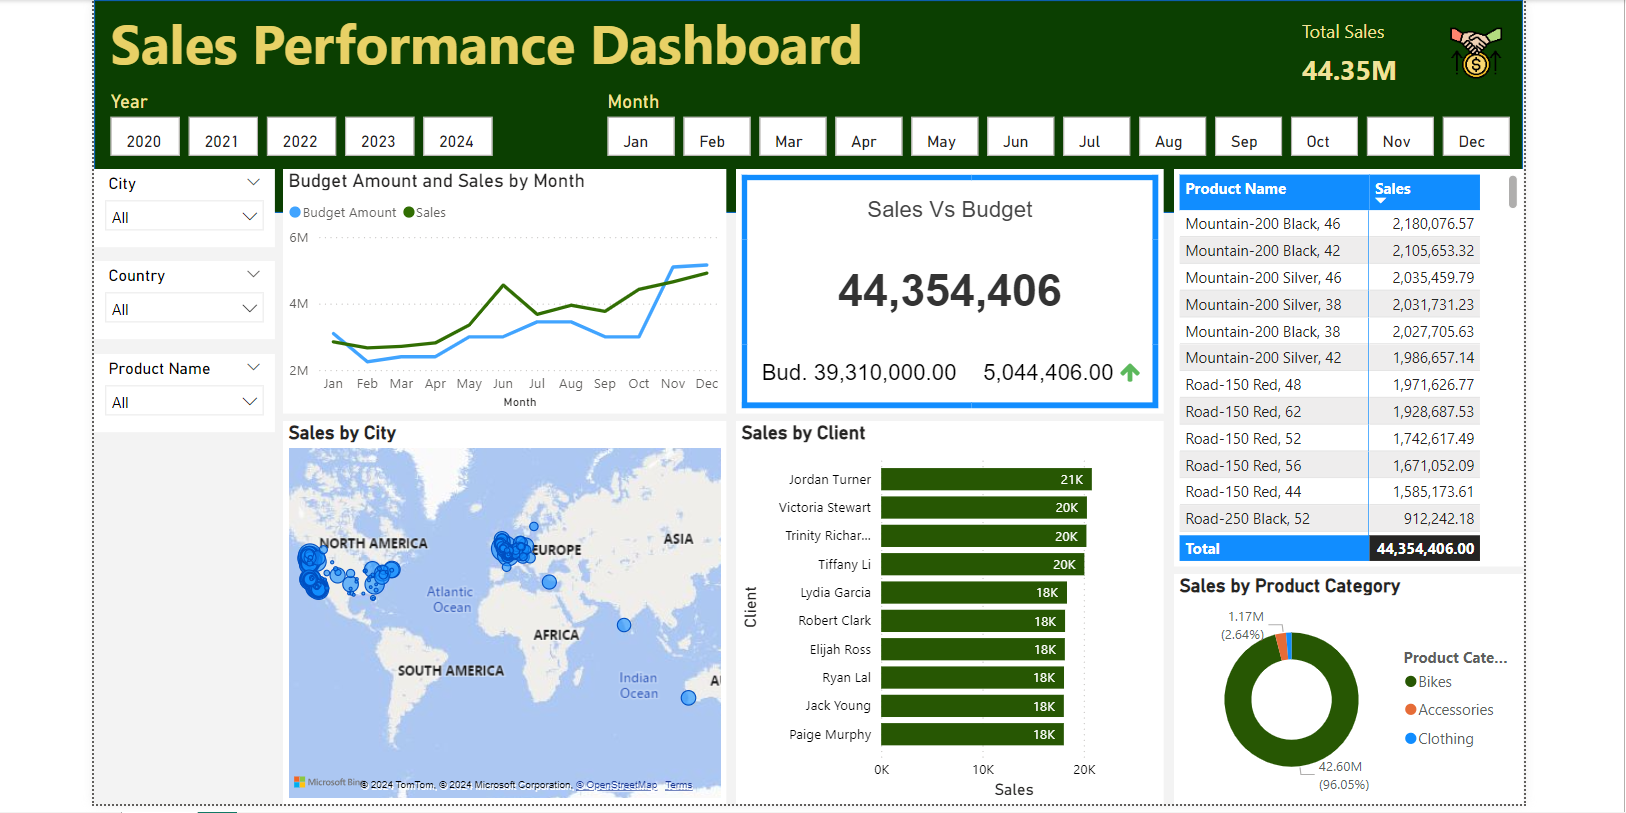

The dashboard page shown, as its layout file describes it:
{"tool":"powerbi","page":{"name":"Page 1","canvas":[1280,720],"ordinal":0},"visuals":[{"type":"shape","box":[0,0,1279.7,190.7],"z":0},{"type":"cardVisual","fields":{"Data":["Internet Sales.SalesAmount"]},"box":[1064.8,0,214.9,78.8],"z":1000},{"type":"textbox","box":[9.9,0,942.1,78.8],"z":2000},{"type":"advancedSlicerVisual","fields":{"Values":["Dim Date.Year"]},"box":[9.9,80.6,355.5,64.5],"z":3000},{"type":"pivotTable","fields":{"Rows":["Dim Product.Product Name"],"Values":["Internet Sales.SalesAmount"]},"box":[967.2,151.3,312.5,356.4],"z":4000},{"type":"BBED0A4D4D8D44CE93CF2DAFADEE466C","fields":{"actual":["Internet Sales.SalesAmount"],"target1":["FACT_Budget.Budget Amount"],"target2":["FACT_Budget.Sales - Budget"]},"box":[574.9,151.3,383.3,219.4],"z":5000},{"type":"advancedSlicerVisual","fields":{"Values":["Dim Date.Month"]},"box":[454.9,80.6,824.8,64.5],"z":6000},{"type":"map","title":" Sales by City","fields":{"Size":["Internet Sales.SalesAmount"],"Category":["Dim Customers.City"]},"box":[169.3,377,396.7,343],"z":7000},{"type":"slicer","fields":{"Values":["Dim Product.Product Name"]},"box":[0,317,162.1,69.9],"z":9000},{"type":"donutChart","fields":{"Category":["Dim Product.Product Category"],"Y":["Internet Sales.SalesAmount"]},"box":[967.2,514,312.5,206],"z":10000},{"type":"clusteredBarChart","fields":{"Y":["Internet Sales.SalesAmount"],"Category":["Dim Customers.FullName"]},"box":[574.9,377,383.3,343],"z":11000},{"type":"slicer","fields":{"Values":["Dim Customers.City"]},"box":[0,151.3,162.1,69.9],"z":11001},{"type":"lineChart","fields":{"Category":["Dim Date.Month"],"Y":["FACT_Budget.Budget Amount","Internet Sales.SalesAmount"]},"box":[169.3,151.3,396.7,219.4],"z":11002},{"type":"slicer","fields":{"Values":["Sales Territory.SalesTerritoryCountry"]},"box":[0,233.7,162.1,69.9],"z":11003}]}

Visuals, with their boxes in screenshot pixels (x1, y1, x2, y2):
shape: Rect(93, 0, 1518, 162)
cardVisual - Internet Sales.SalesAmount: Rect(1279, 0, 1518, 37)
textbox: Rect(104, 0, 1153, 37)
advancedSlicerVisual - Dim Date.Year: Rect(104, 39, 500, 111)
pivotTable - Dim Product.Product Name x Internet Sales.SalesAmount: Rect(1170, 118, 1518, 515)
BBED0A4D4D8D44CE93CF2DAFADEE466C - Internet Sales.SalesAmount x FACT_Budget.Budget Amount: Rect(733, 118, 1160, 362)
advancedSlicerVisual - Dim Date.Month: Rect(600, 39, 1518, 111)
" Sales by City" map: Rect(282, 369, 723, 751)
slicer - Dim Product.Product Name: Rect(93, 302, 274, 380)
donutChart - Dim Product.Product Category x Internet Sales.SalesAmount: Rect(1170, 522, 1518, 751)
clusteredBarChart - Internet Sales.SalesAmount x Dim Customers.FullName: Rect(733, 369, 1160, 751)
slicer - Dim Customers.City: Rect(93, 118, 274, 196)
lineChart - Dim Date.Month x FACT_Budget.Budget Amount: Rect(282, 118, 723, 362)
slicer - Sales Territory.SalesTerritoryCountry: Rect(93, 209, 274, 287)
